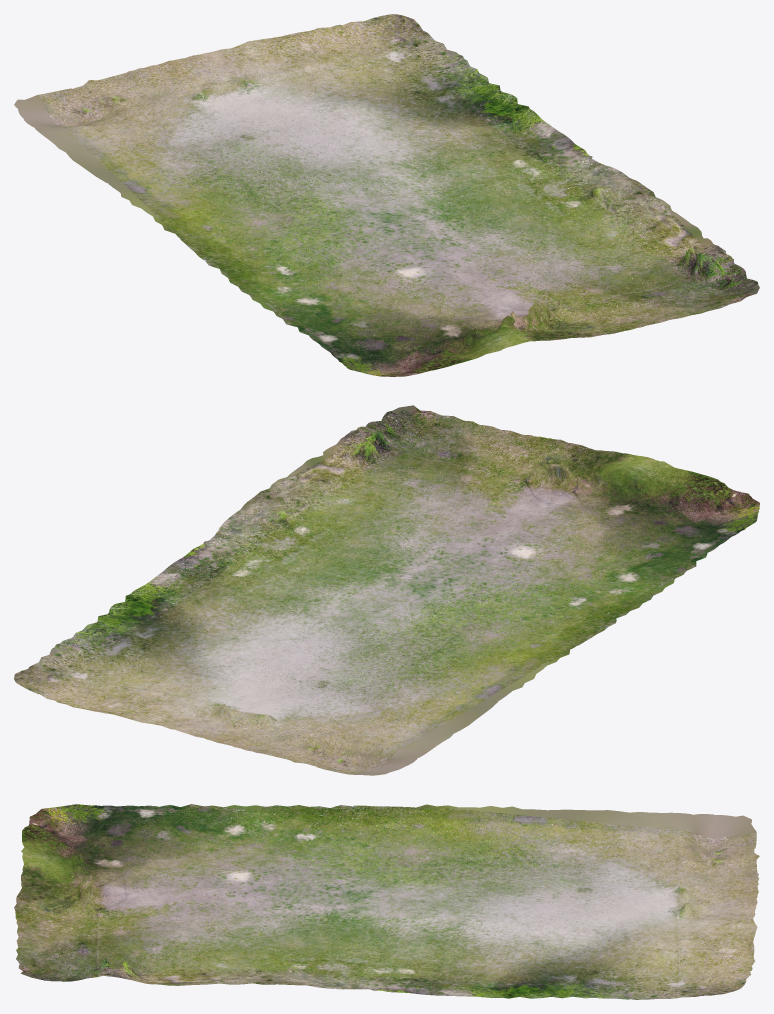
File: field.glb
3 renders of one model, top to bottom at view 1: azimuth 30°, elevation 25°; view 2: azimuth 150°, elevation 25°; view 3: azimuth 270°, elevation 25°, orthographic. The views are drawn at different scales.
Visible parts, largest first — view 1: Object_2; view 2: Object_2; view 3: Object_2.
Part boxes in pixels (x1,y1,x2,y2): Object_2: [14, 14, 759, 376]; Object_2: [14, 405, 759, 775]; Object_2: [14, 804, 759, 999].
Bounding box in the file's own units: 19.04 × 1.5 × 31.66.
Materials: 1 (1 with a texture image).
